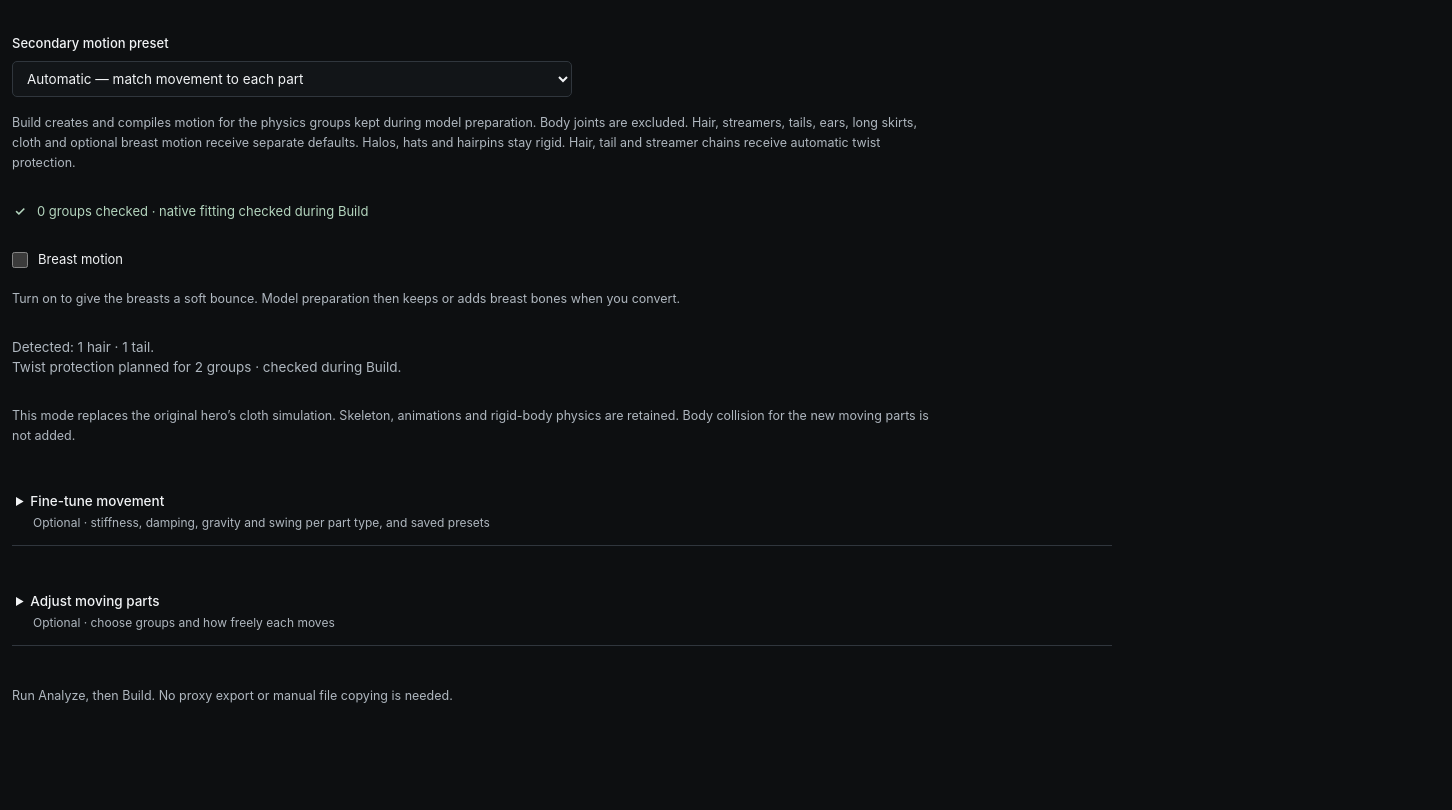
Test: Fine-tune movement › lists the analyzed part types of the model on the Physics tab
Click the text "Fine-tune movement" at (97, 500), box [30, 492, 164, 508]
(page scrolled)
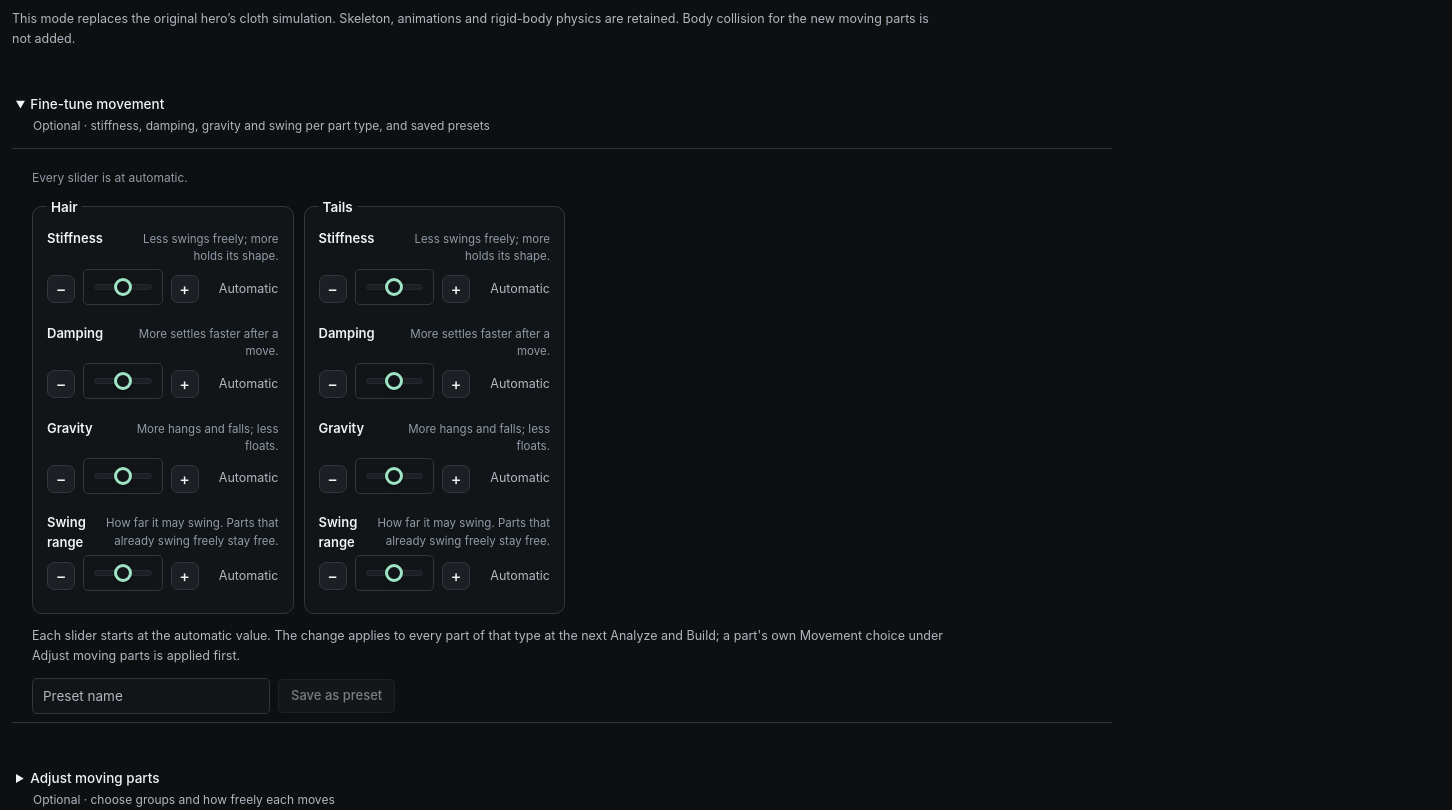
Check: the element named "Fine-tune Hair" is shown, box [32, 197, 294, 614]
Check: the element named "Fine-tune Tails" is shown, box [304, 197, 565, 614]
